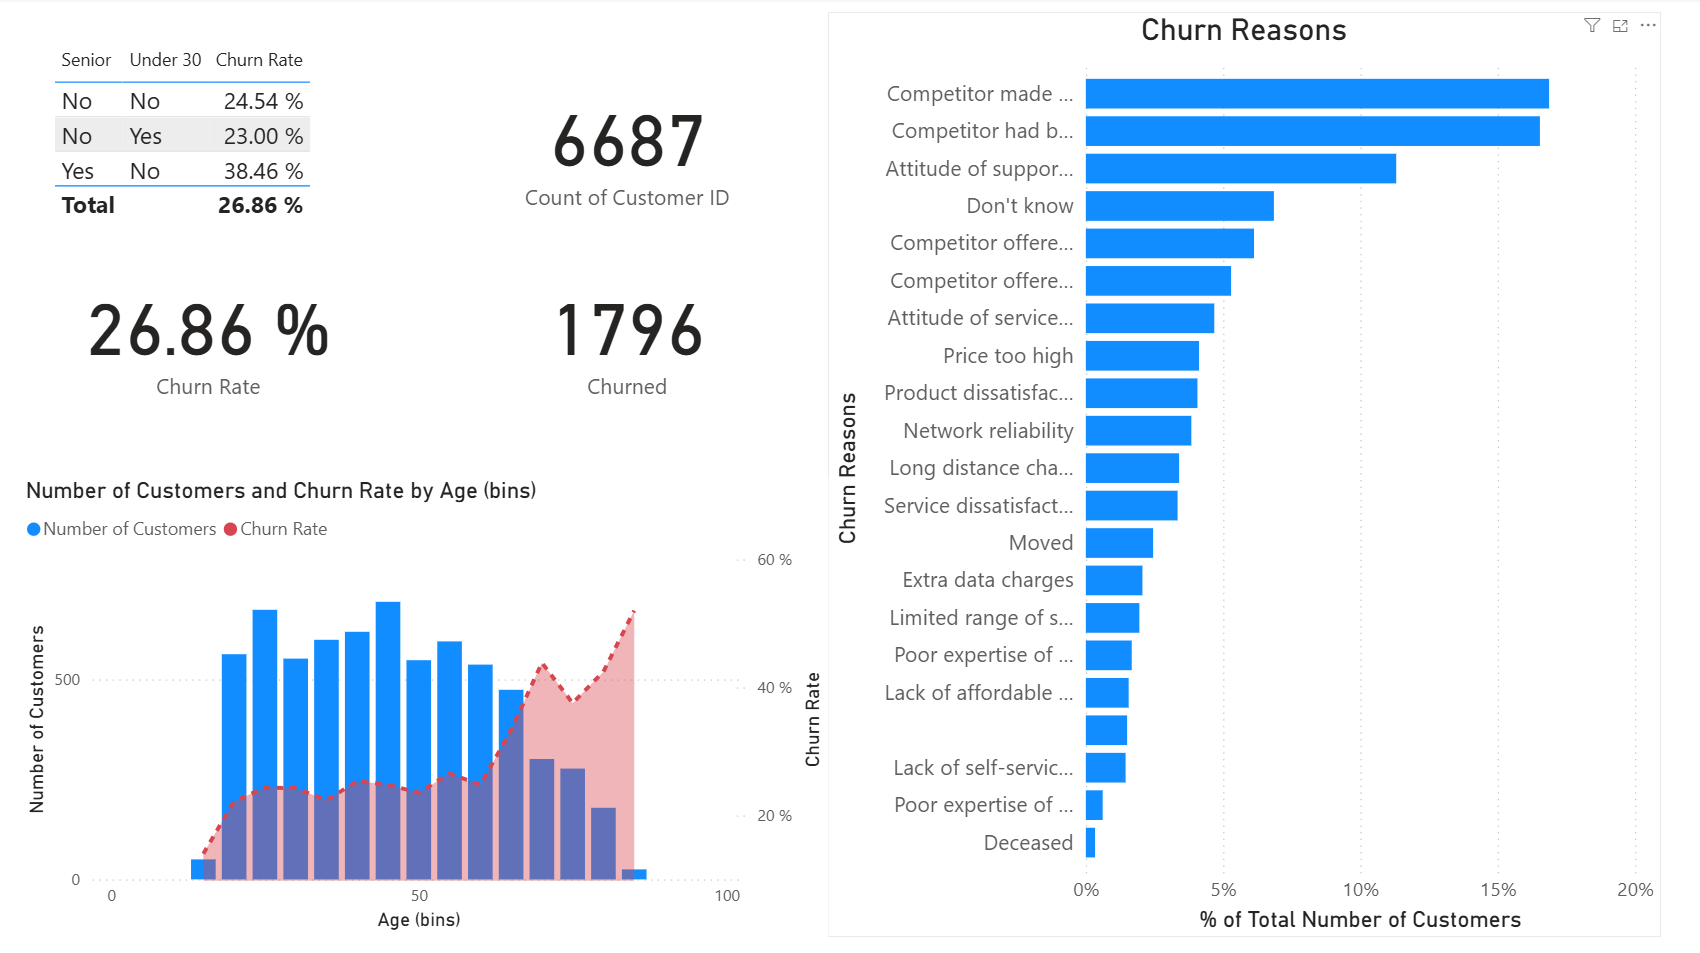

What the dashboard file says about the page in this screenshot:
{"tool":"powerbi","page":{"name":"Churn Demographics","canvas":[1280,720],"ordinal":0},"visuals":[{"type":"tableEx","fields":{"Values":["Databel - Data.Senior","Databel - Data.Under 30","Databel - Data.Churn Rate"]},"box":[35.2,30.8,280.1,161.3],"z":0},{"type":"clusteredBarChart","title":"Churn Reasons","fields":{"Category":["Databel - Data.Churn Reason"],"Y":["CountNonNull(Databel - Data.Number of Customers in Group)"]},"box":[623.2,10.3,626.2,696.5],"z":1000},{"type":"card","fields":{"Values":["Databel - Data.Churn Rate"]},"box":[51.3,192.1,211.2,123.2],"z":2000},{"type":"lineStackedColumnComboChart","fields":{"Category":["Databel - Data.Age (bins)"],"Y":["Databel - Data.Number of costumers"],"Y2":["Databel - Data.Churn Rate"]},"box":[14.7,360.7,608.6,346.1],"z":3000},{"type":"card","fields":{"Values":["Count(Databel - Data.Customer ID)"]},"box":[366.6,49.9,211.2,123.2],"z":4000},{"type":"card","fields":{"Values":["Sum(Databel - Data.Churned)"]},"box":[366.6,192.1,211.2,123.2],"z":5000}]}

Visuals, with their boxes in screenshot pixels (x1, y1, x2, y2), scaled from the page's 1280x720 canvas onto the 1700x953 screenshot:
tableEx - Databel - Data.Senior x Databel - Data.Under 30: pyautogui.locateOnScreen(47, 41, 419, 254)
"Churn Reasons" clusteredBarChart: pyautogui.locateOnScreen(828, 14, 1659, 936)
card - Databel - Data.Churn Rate: pyautogui.locateOnScreen(68, 254, 349, 417)
lineStackedColumnComboChart - Databel - Data.Age (bins) x Databel - Data.Number of costumers: pyautogui.locateOnScreen(20, 477, 828, 936)
card - Count(Databel - Data.Customer ID): pyautogui.locateOnScreen(487, 66, 767, 229)
card - Sum(Databel - Data.Churned): pyautogui.locateOnScreen(487, 254, 767, 417)
